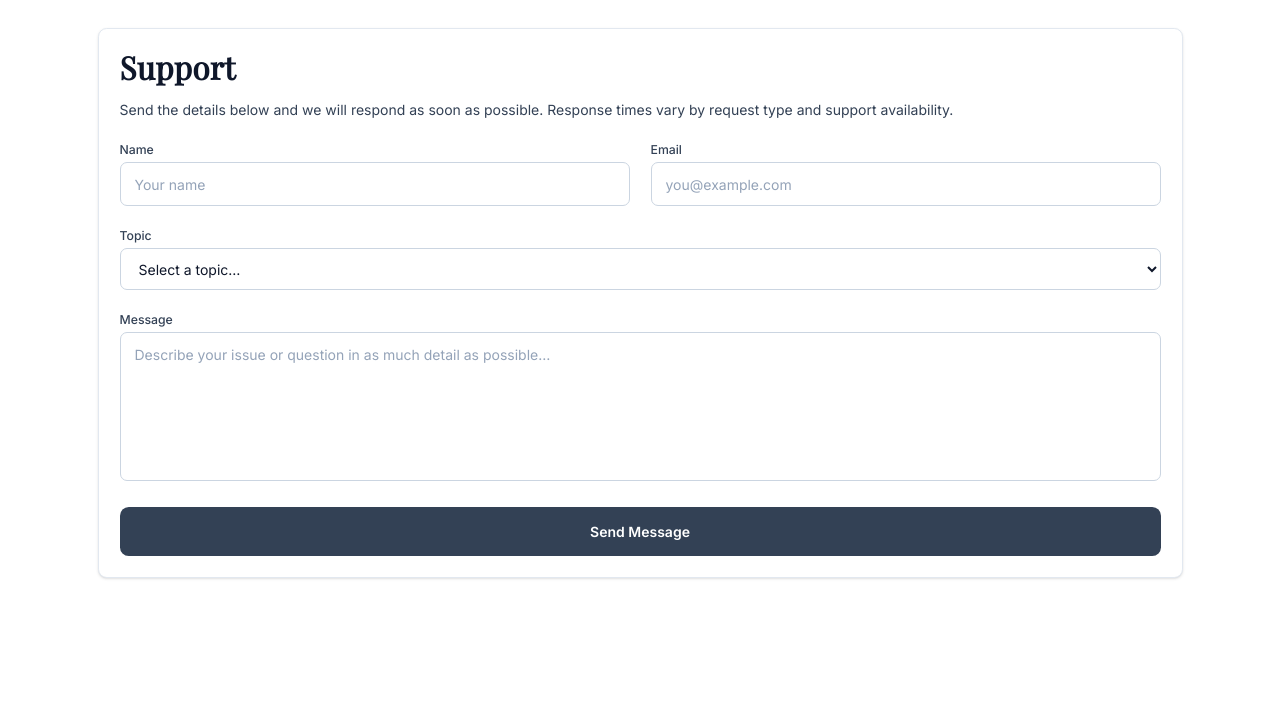
Support › shows an error message when submission fails
Step 1. Type "Jamie Driver" into the field labelled "Name" → (374, 184), box top-left (120, 162), bottom-right (630, 206)
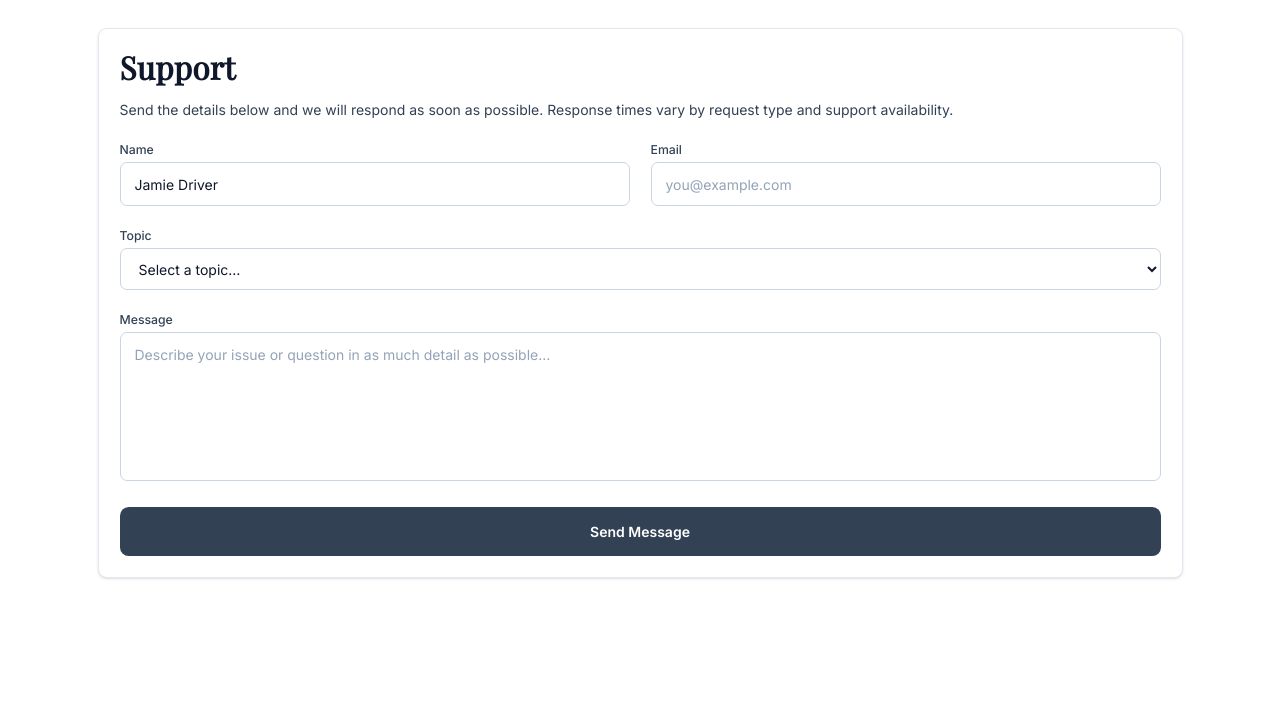
Step 2. Type "jamie@example.com" into the field labelled "Email" → (906, 184), box top-left (650, 162), bottom-right (1160, 206)
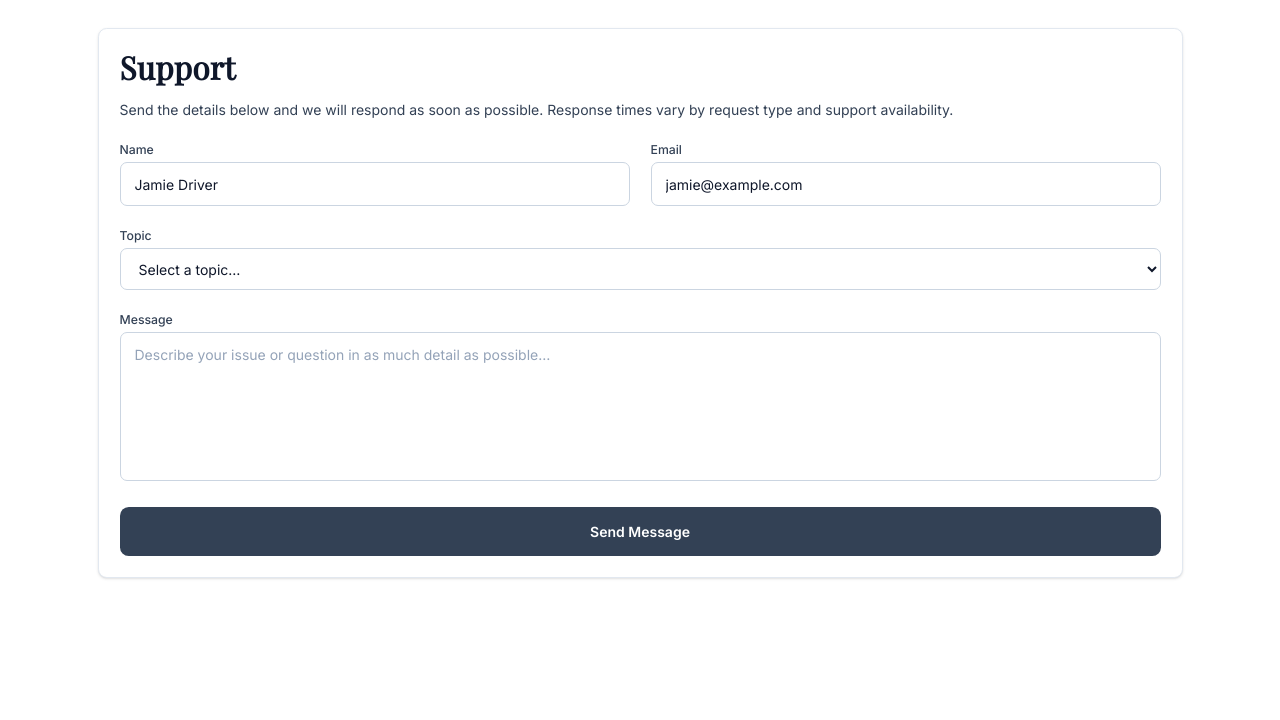
Step 3. Select "Bug Report" in the dropdown labelled "Topic" → (640, 269), box top-left (120, 248), bottom-right (1160, 290)
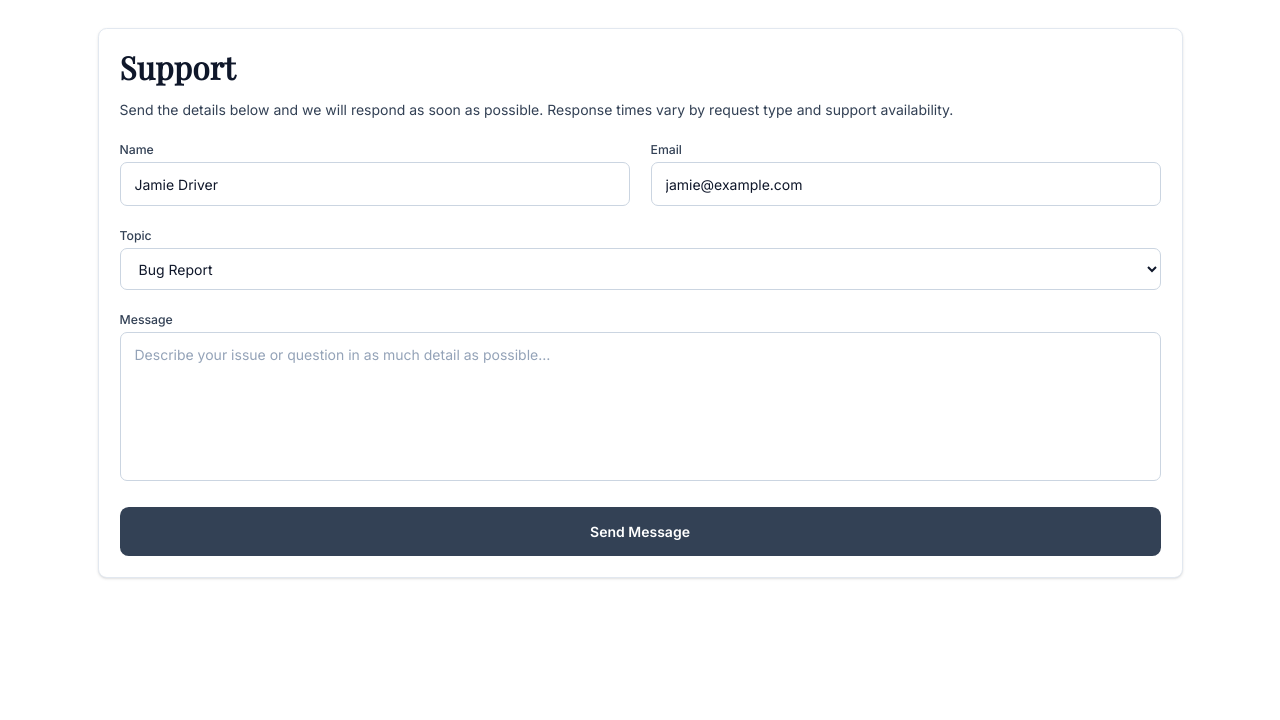
Step 4. Replace the text in the text box labelled "Message" with "The app crashes when I add a vehicle." → (640, 406), box top-left (120, 332), bottom-right (1160, 481)
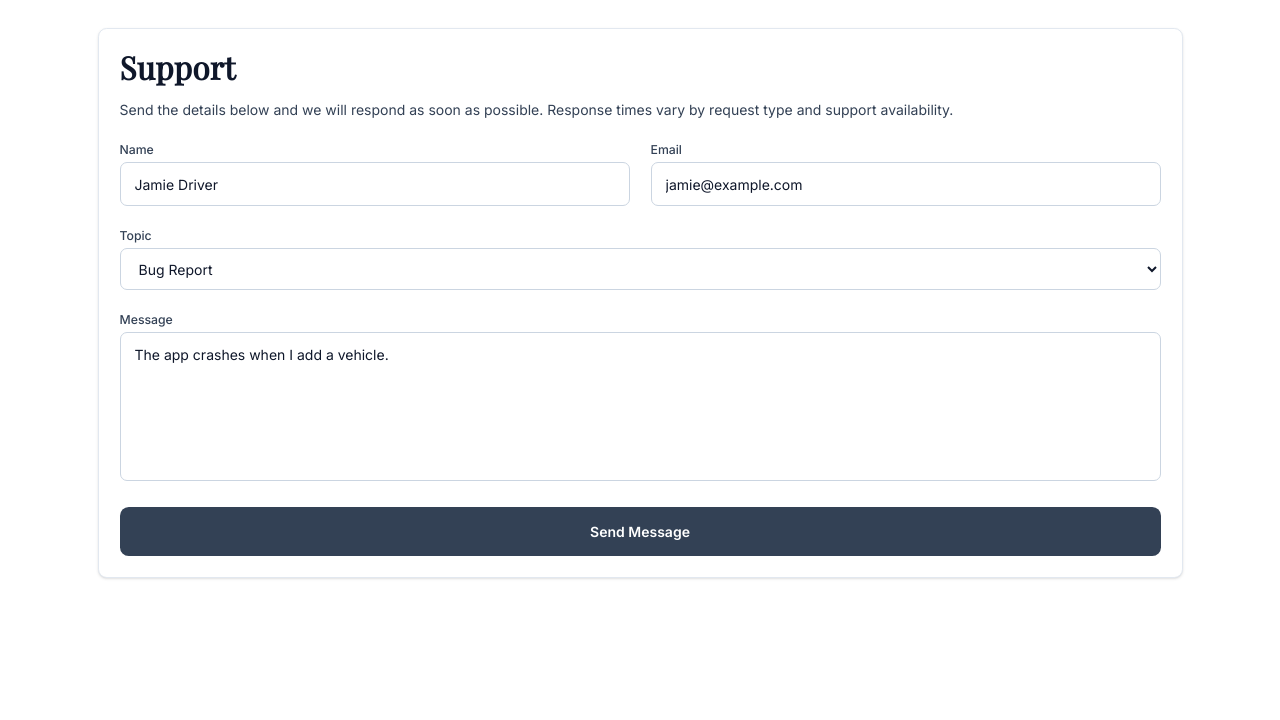
Step 5. Click the button "Send Message" → (640, 532), box top-left (120, 507), bottom-right (1160, 556)
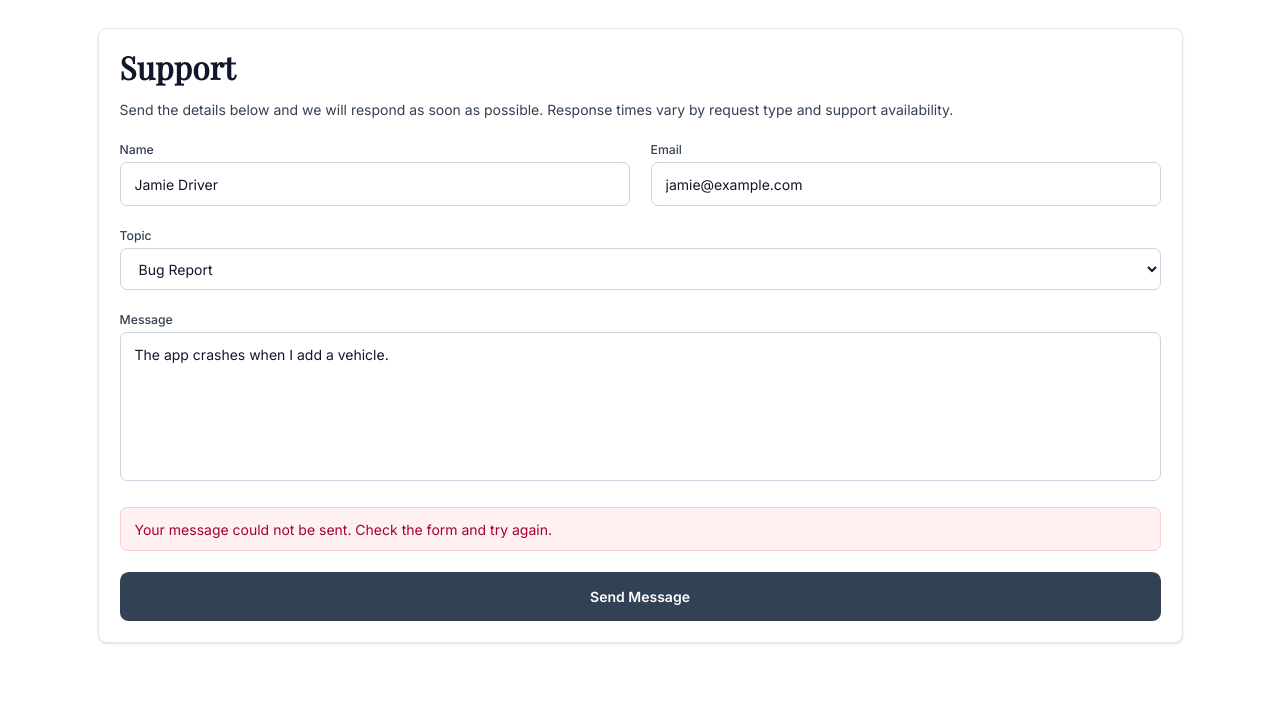
Check: the message "Your message could not be sent. Check the form and try again." is shown, box top-left (120, 507), bottom-right (1160, 551)
Check: the message shows "message could not be sent", box top-left (134, 520), bottom-right (552, 538)
